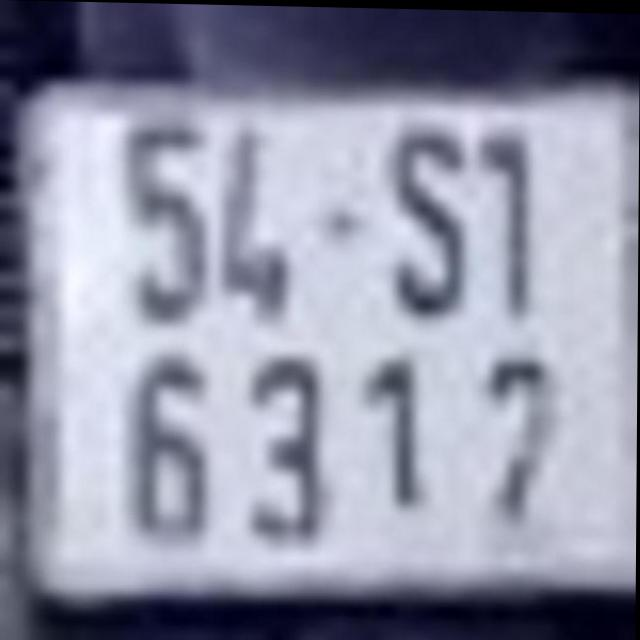1: (476, 102, 533, 314), (371, 341, 427, 532)
2: (482, 350, 557, 542)
3: (252, 356, 322, 537)
4: (225, 121, 288, 326)
5: (124, 125, 207, 311)
6: (123, 351, 204, 543)
S: (394, 130, 465, 320)
